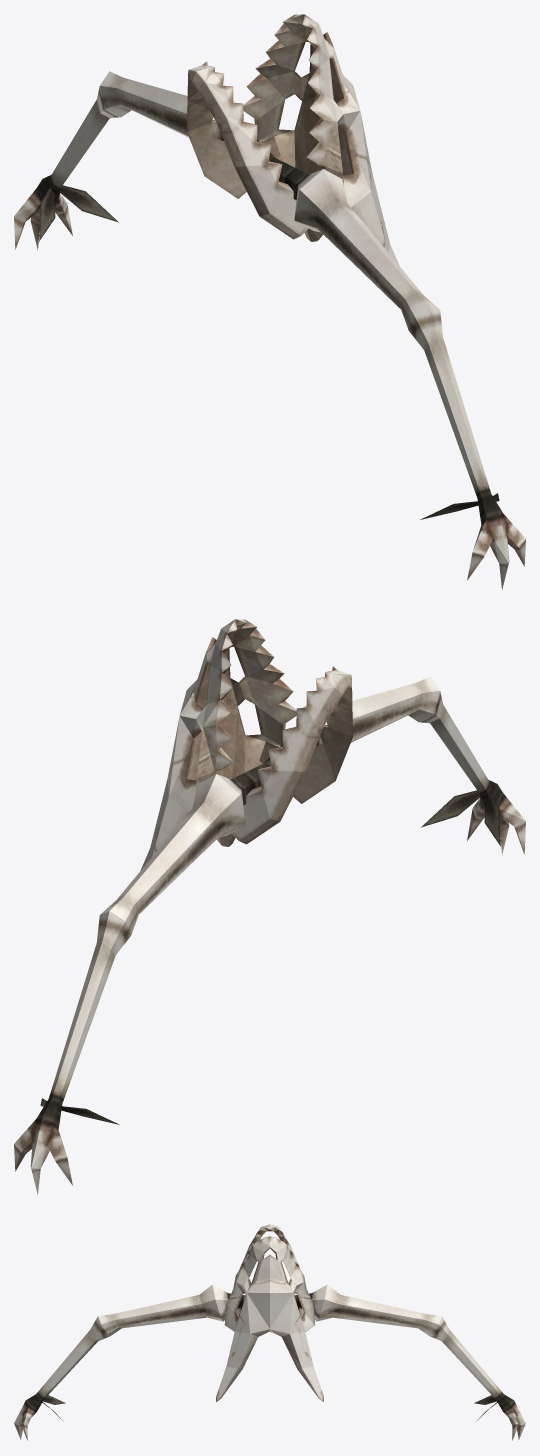
Rendered from Chameleon_hallowBow_bow.obj.
3 renders of one model, top to bottom at view 1: azimuth 30°, elevation 25°; view 2: azimuth 150°, elevation 25°; view 3: azimuth 270°, elevation 25°, orthographic. The views are drawn at different scales.
Parts seen in each view (by area): view 1: Chameleon_hallowBow_tri [bow]; view 2: Chameleon_hallowBow_tri [bow]; view 3: Chameleon_hallowBow_tri [bow].
Boxes of the visible parts, <box> form: Chameleon_hallowBow_tri [bow]: <box>14,14,525,589</box>; Chameleon_hallowBow_tri [bow]: <box>14,619,525,1194</box>; Chameleon_hallowBow_tri [bow]: <box>14,1224,525,1440</box>.
Size of the model in its own units: 0.3193 by 0.6848 by 1.49.
1 material, 1 textured.
